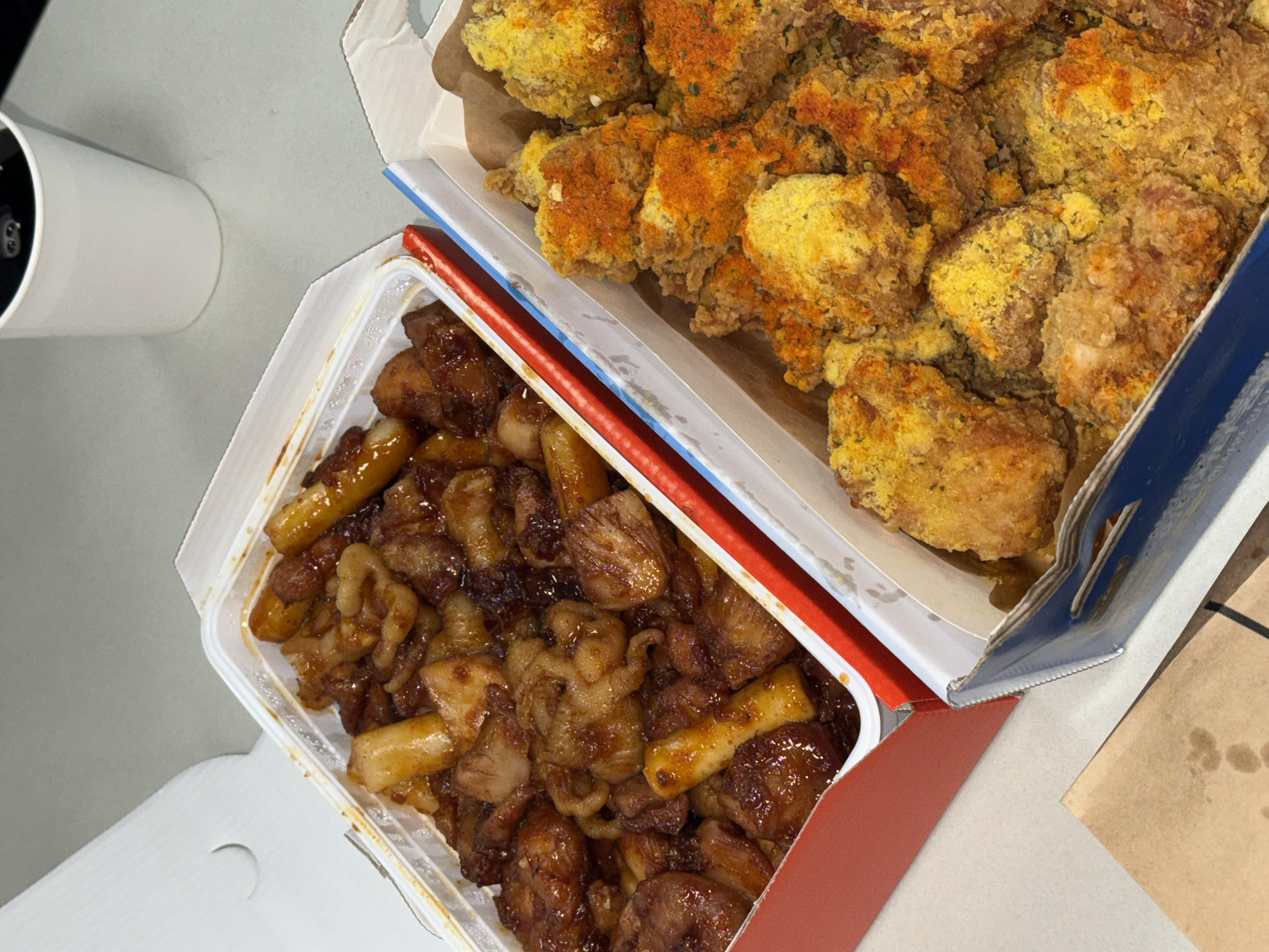Lunch Box: (0, 0, 966, 762), (327, 257, 1269, 952)
